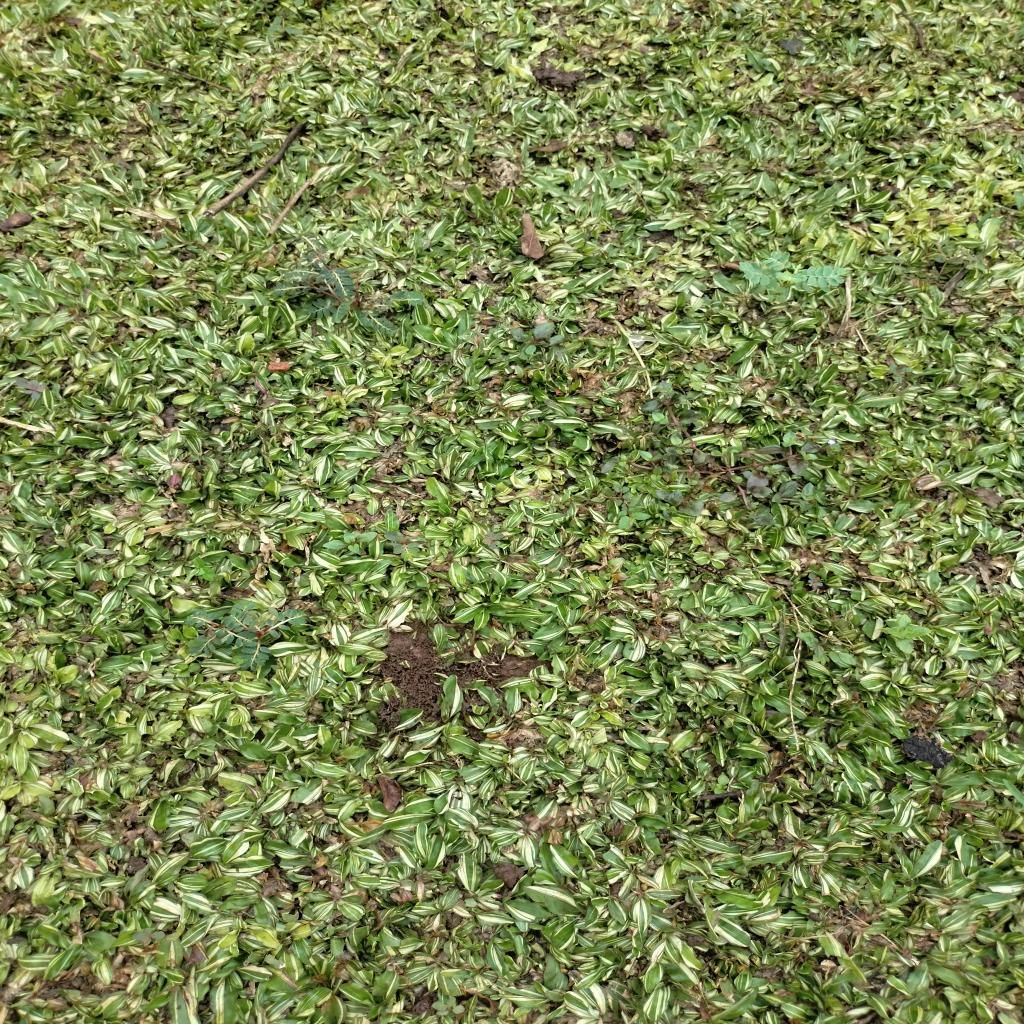buah daun: (277, 247, 426, 337), (185, 597, 315, 675), (736, 248, 850, 300), (383, 528, 424, 564), (14, 374, 50, 401), (478, 524, 512, 551), (133, 924, 166, 947)
daun tiga: (793, 629, 861, 667)
tunggang besar: (873, 613, 936, 655)
tunggang tengah: (594, 479, 656, 534), (924, 238, 987, 273), (428, 994, 469, 1016)
ungu tunggang: (668, 430, 839, 528), (642, 380, 714, 462), (506, 321, 570, 364), (322, 528, 379, 558)
